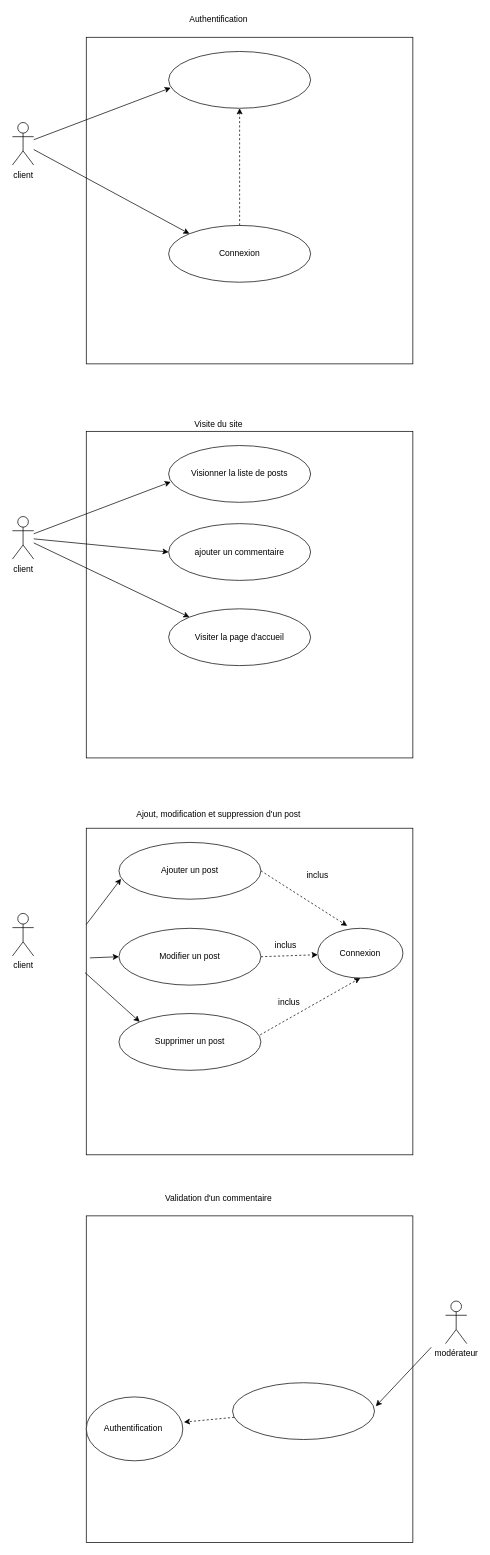
The diagram is 490 pixels wide and 1555 high, and some of its shapes have lost their labels. Each missing label, with the box of its shape:
Inclus connexion requière l'authentification: (86, 37, 413, 364)
Inscription: (168, 51, 311, 108)
Valide le commentaire: (232, 1382, 375, 1440)
